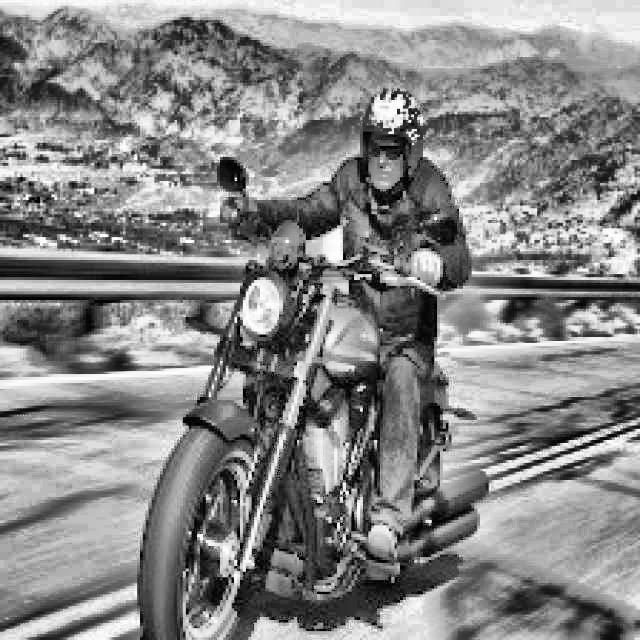motorcycle: (130, 141, 552, 640)
